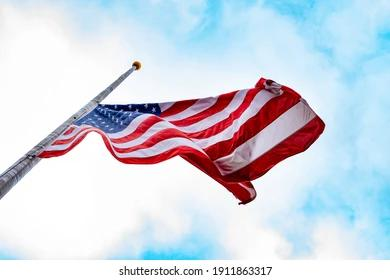America flag: (37, 77, 326, 204)
